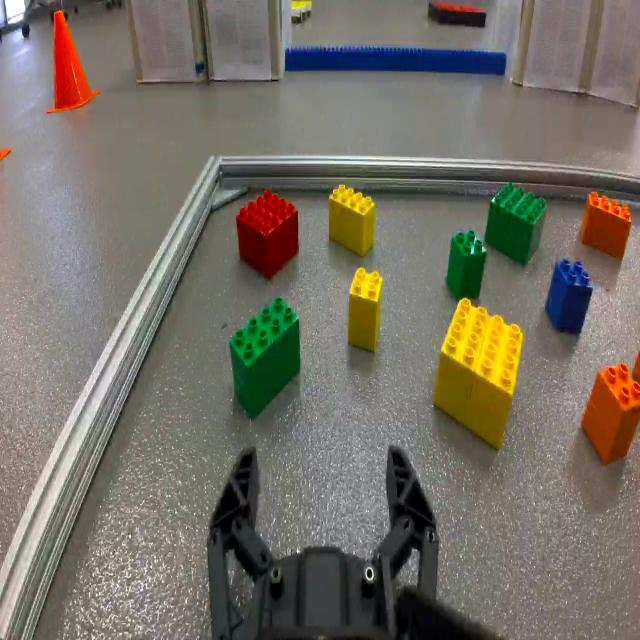block: (436, 301, 521, 453), (328, 182, 374, 253), (349, 268, 381, 350)
blue: (547, 261, 590, 340)
cone: (47, 9, 99, 118)
green: (228, 299, 302, 411), (488, 179, 543, 262), (446, 227, 485, 300)
metal barrier: (0, 149, 640, 640)
orange: (580, 362, 640, 460), (579, 190, 630, 254)
red: (427, 0, 484, 29)
red goal: (237, 188, 301, 282)
river: (280, 44, 511, 84)
storage cube: (493, 0, 640, 97), (124, 0, 290, 84)
yellow goal: (289, 0, 313, 22)
